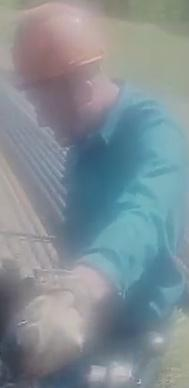gloves: (8, 268, 98, 380)
helmet: (10, 2, 109, 91)
vest: (65, 90, 180, 307)
